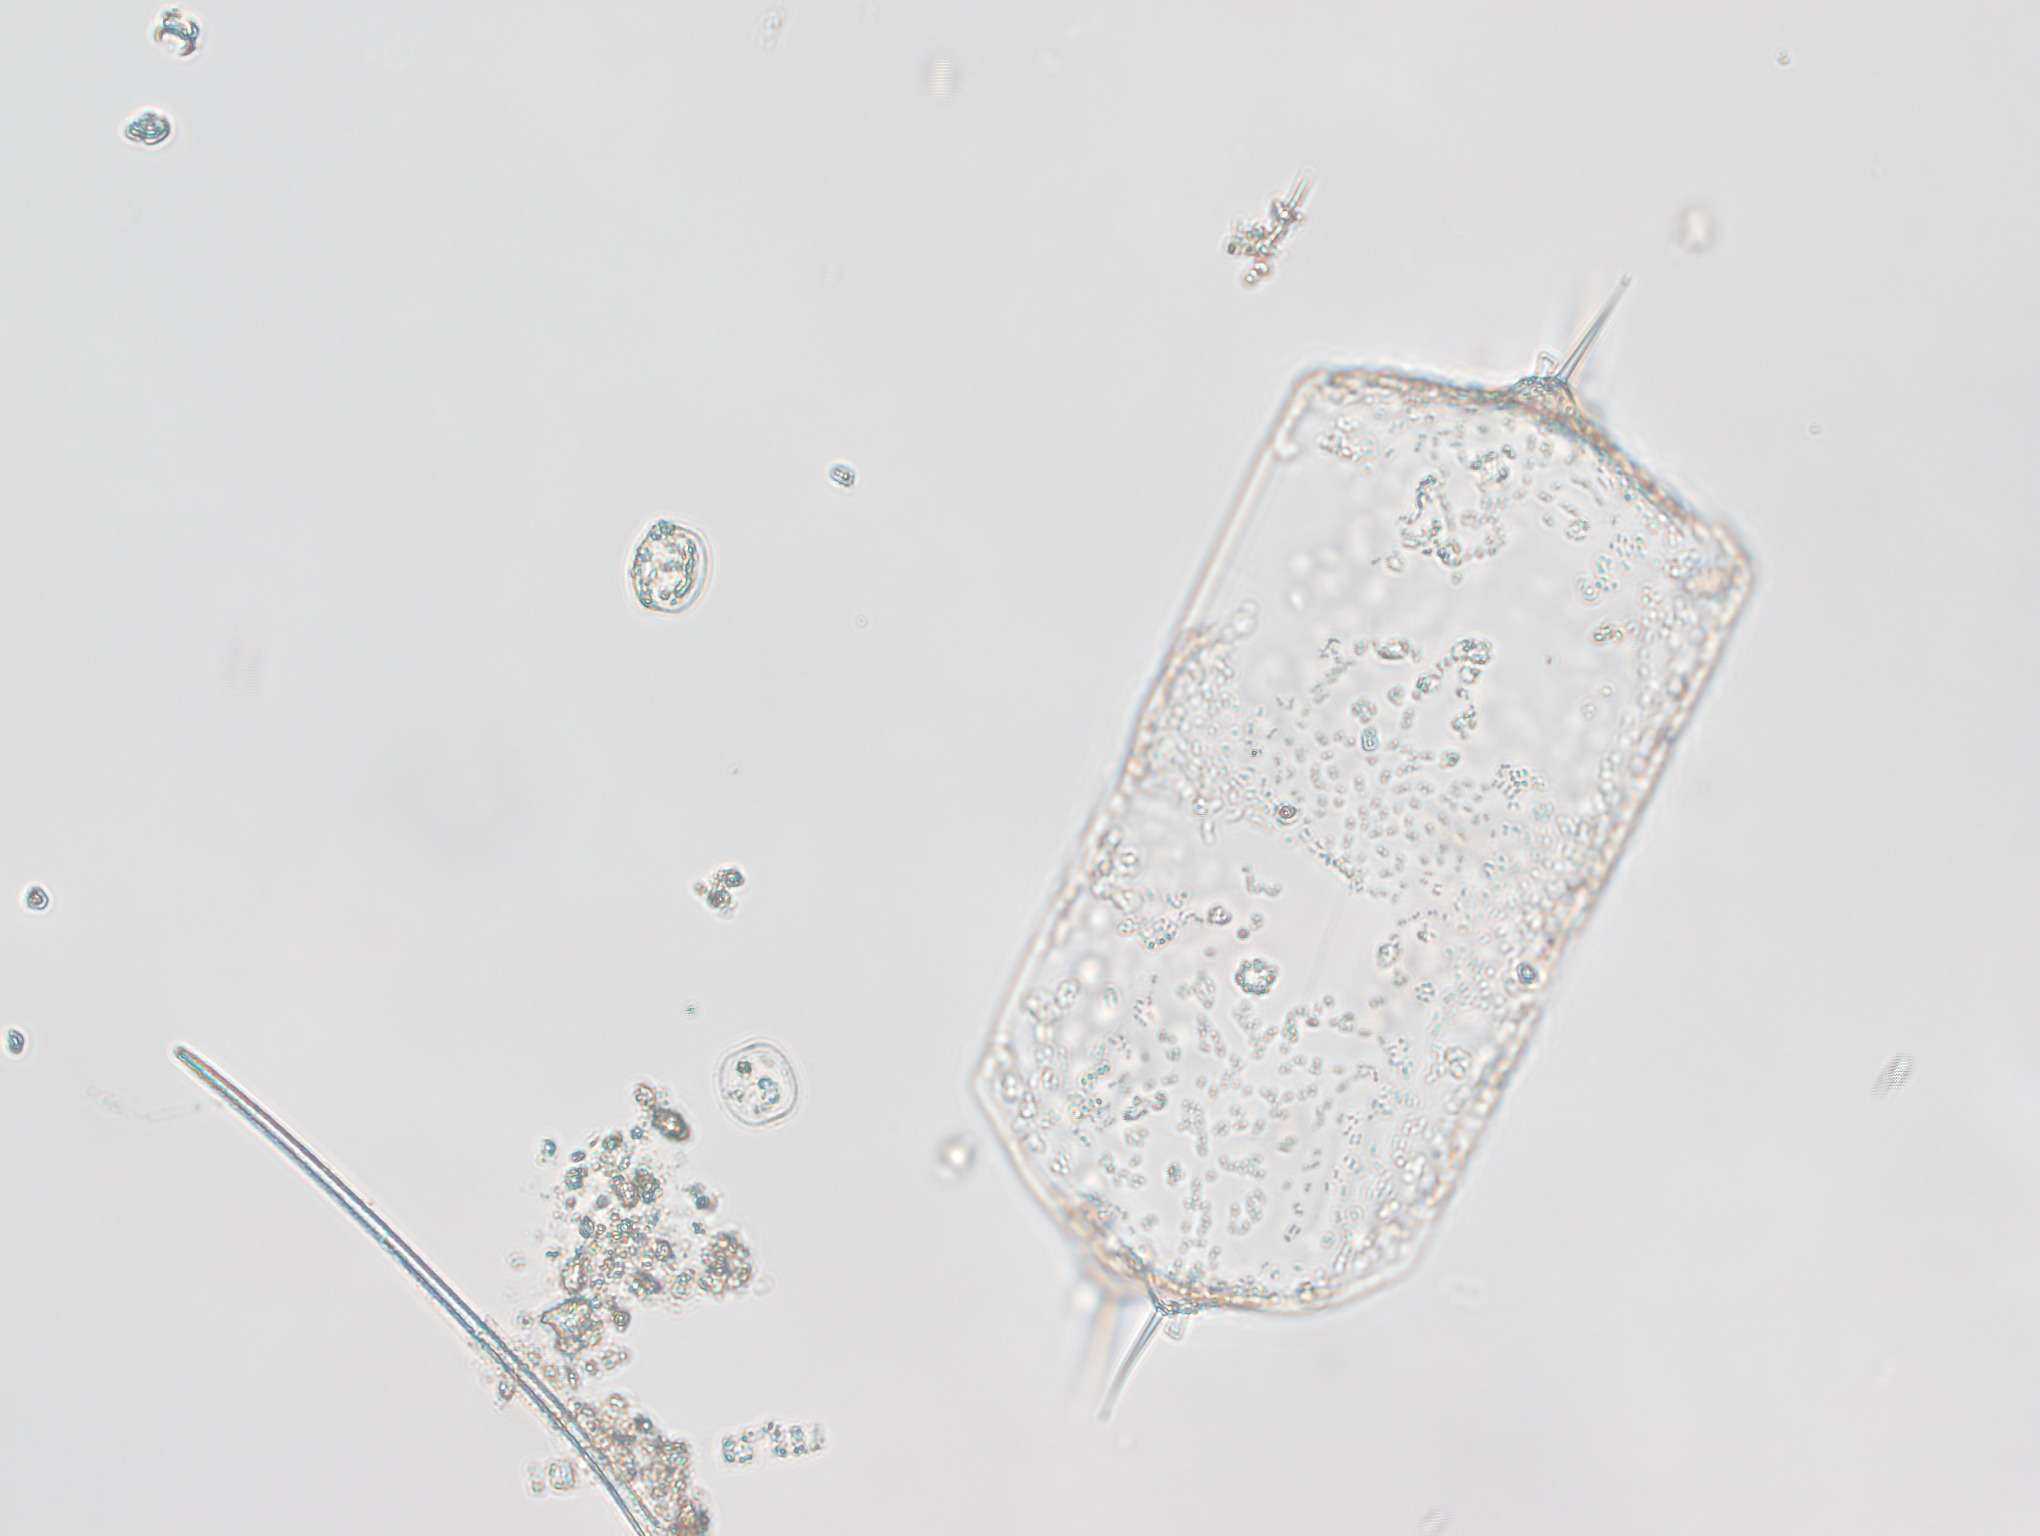ditylum: (963, 207, 1767, 1428)
